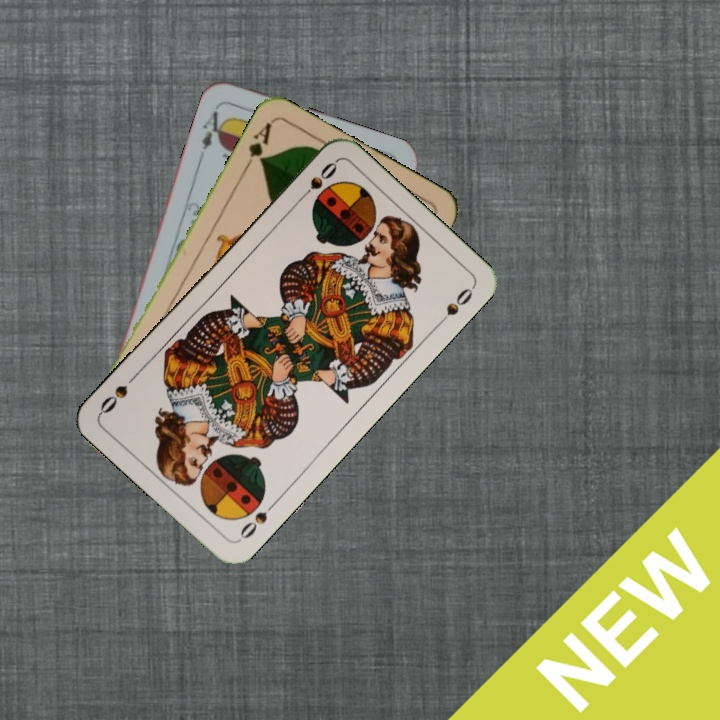EA: (197, 102, 230, 153)
GA: (240, 118, 275, 173)
SO: (294, 158, 340, 205), (234, 497, 280, 544)
